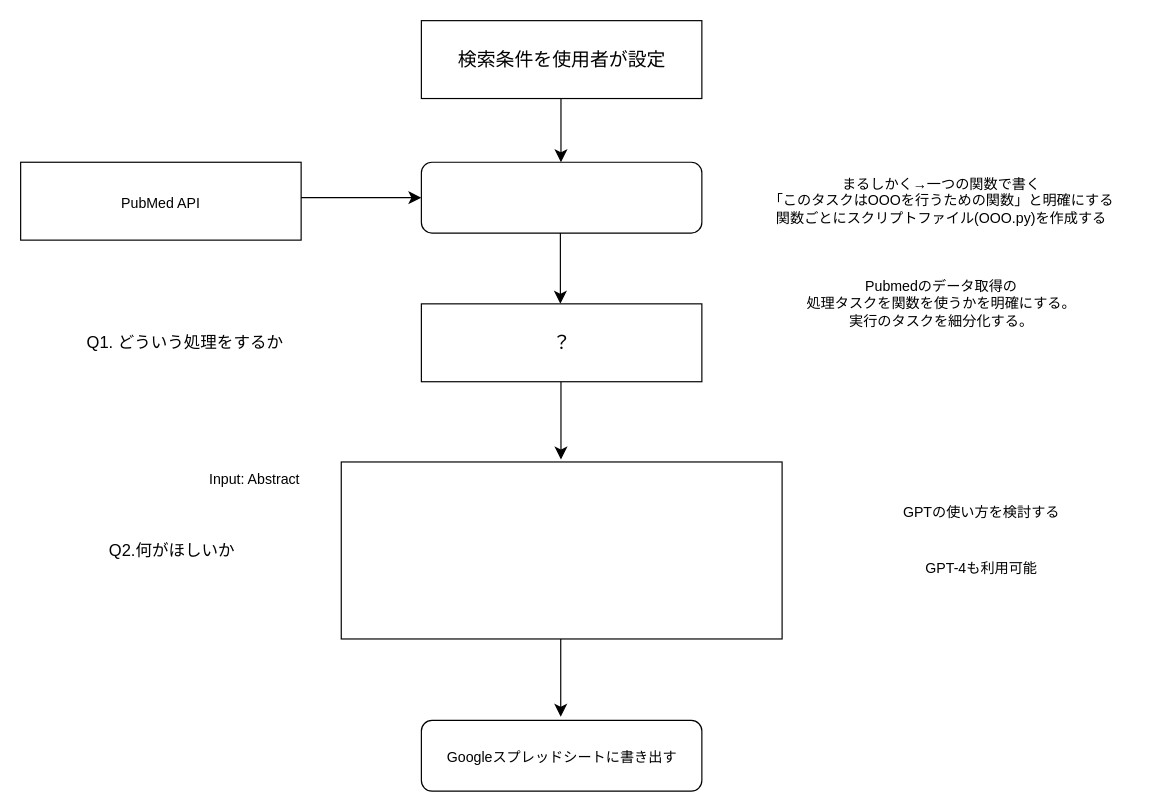
Image size: 1156x812. Some labels were removed from this diagram. The shapes that lost their labels are listed below. From the top down, each one's centre as x and y in pixels, then its label:
At point 561,197: "Pubmedから データを取得する".
At point 561,550: "論文の文章中の「遺伝子、タンパク質、過剰発現、変異体、表現型、リプレッサー」というキーワードに注目し、それらの対応関係についての情報を抽出して表形式で出力する。".
